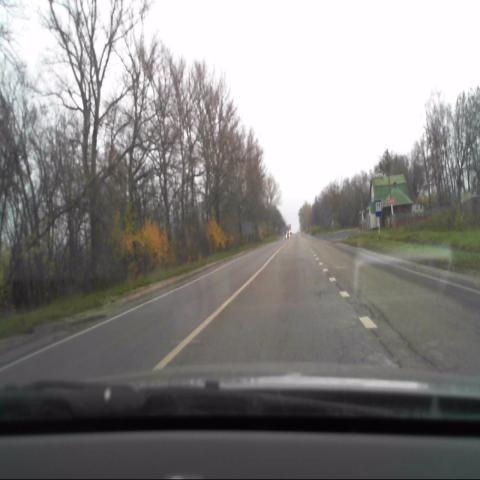7_7: (374, 199, 383, 218)
